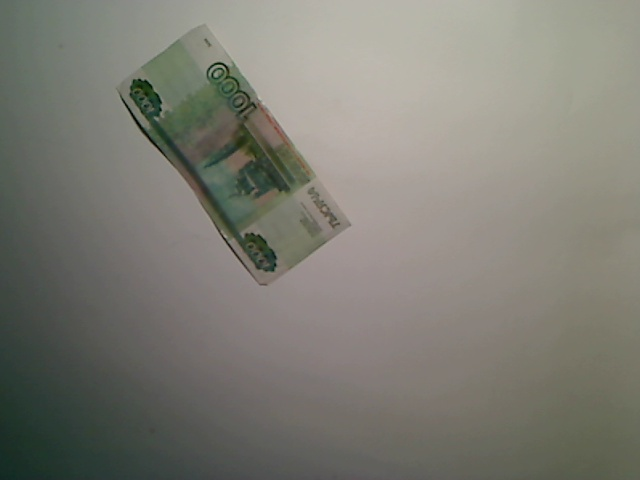banknotes: (112, 22, 359, 289)
